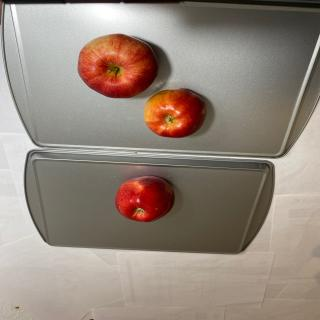Apple: (77, 34, 158, 98), (144, 88, 208, 138), (115, 175, 175, 222)
